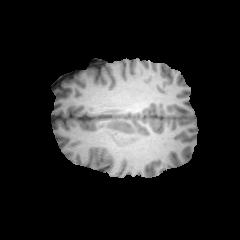glioma: (105, 118, 147, 147)
